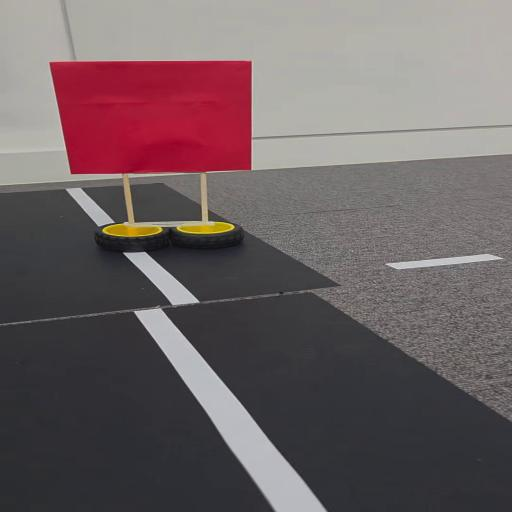Sign_A: (46, 55, 262, 254)
